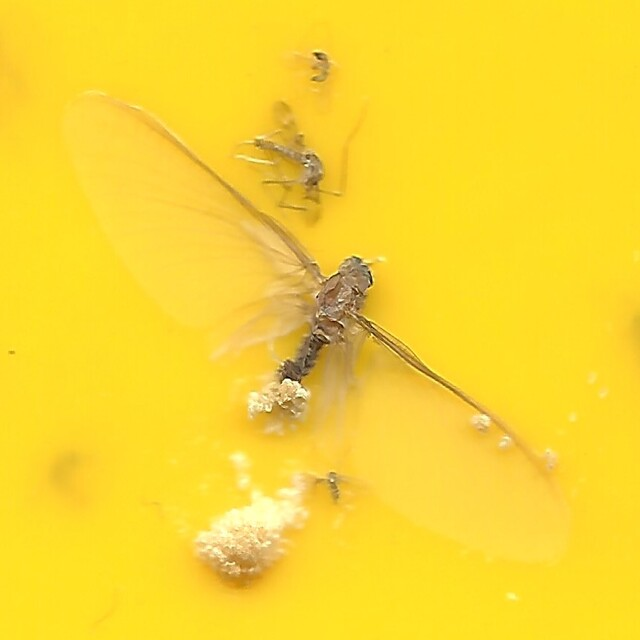Ephemeroptera: (74, 89, 566, 551)
Nematocera: (242, 97, 329, 218)
